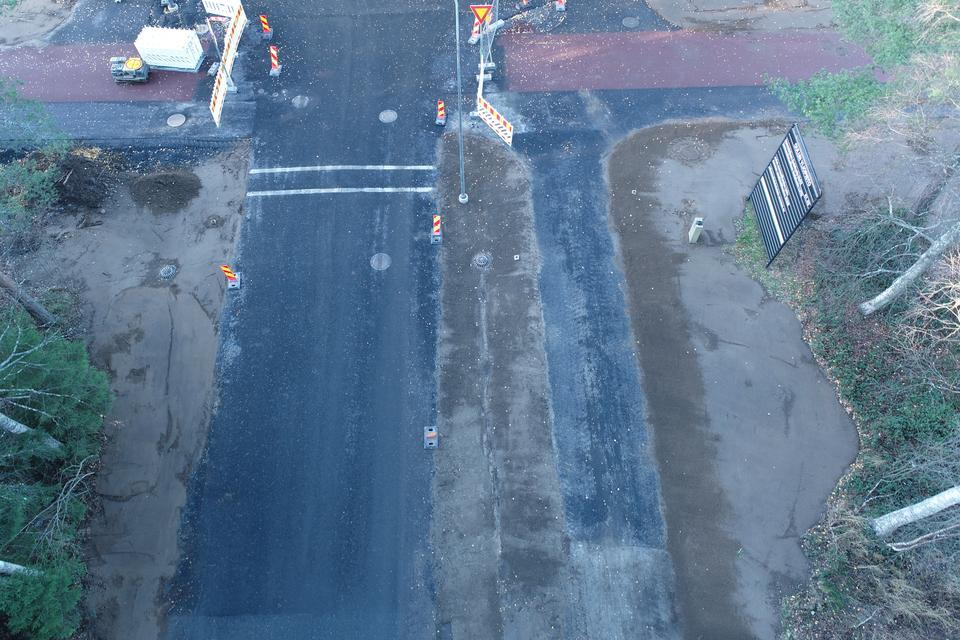intersection: (159, 4, 658, 200)
